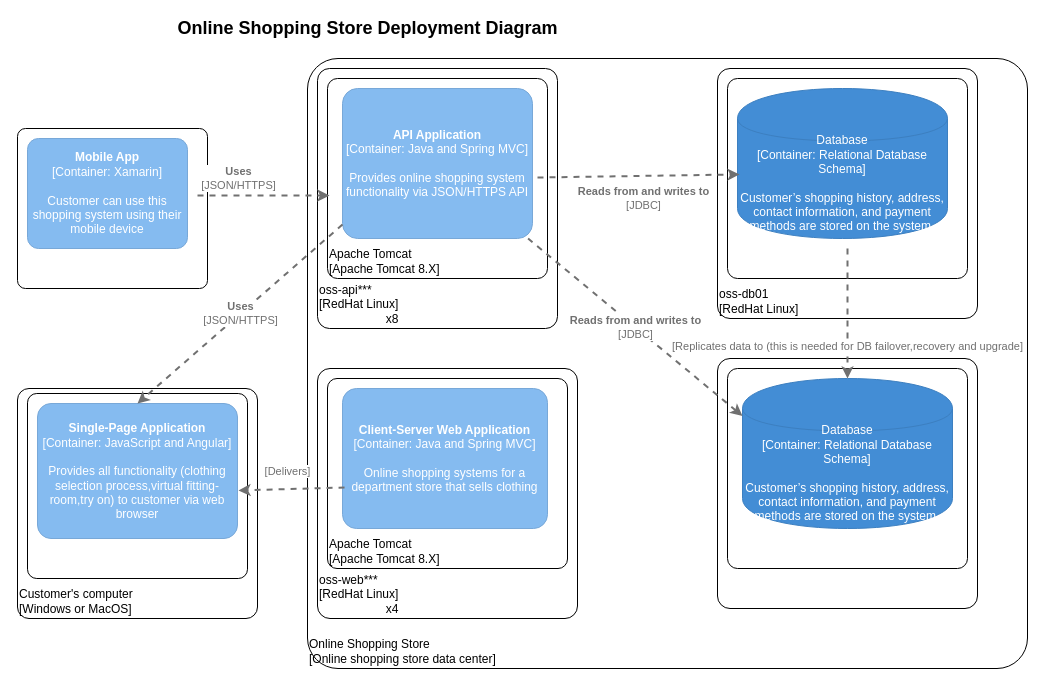
This 1045x686 diagram has some shape labels left out. The shapes that lost their labels are listed below. From the top down, each one's box as (x1, y1, x2, y2) in pixels, then its label:
(726, 78, 968, 278): Oracle-primary [Oracle 12c]
(16, 128, 208, 288): Customer's mobile device [Apple iOS or Android]
(26, 392, 248, 578): Web Browser [Chrome,Firefox,Safari or Edge]
(726, 368, 968, 568): Oracle-Secondary [Oracle 12c]
(716, 358, 978, 608): oss-db02 [RedHat Linux]
